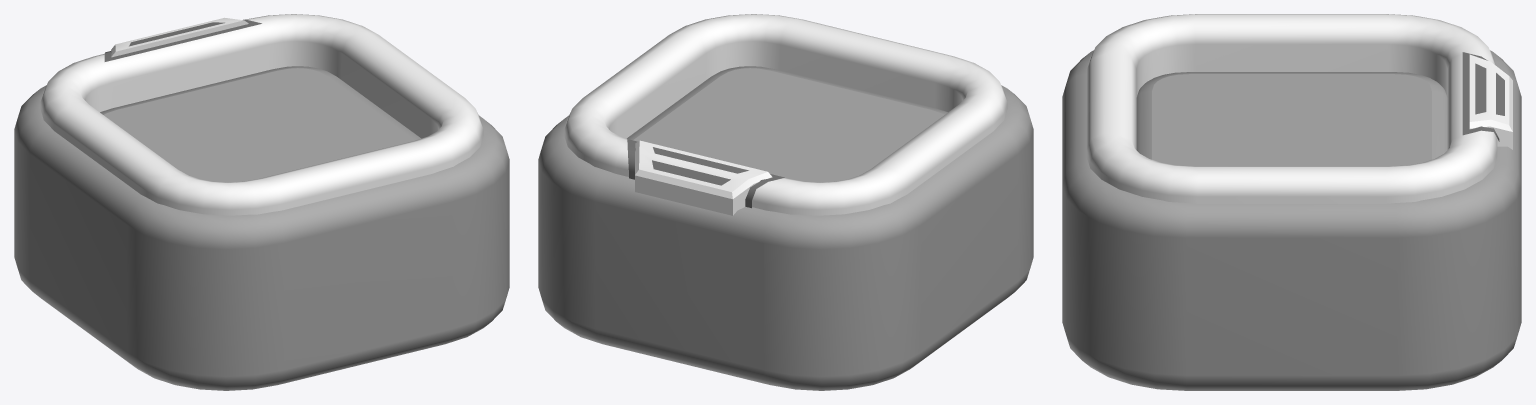
The model's file is Model_Block_1_New.fbx.
3 views of the same model, side by side, from view 1: azimuth 30°, elevation 25°; view 2: azimuth 150°, elevation 25°; view 3: azimuth 270°, elevation 25° (orthographic). The views are drawn at different scales.
Parts seen in each view (by area): view 1: B1_BG, B1_Stroke, B1_Water; view 2: B1_BG, B1_Stroke, B1_Water; view 3: B1_BG, B1_Stroke, B1_Water.
Part boxes in pixels (<box>): B1_BG: <box>14,85,509,390</box>; B1_Stroke: <box>40,14,483,215</box>; B1_Water: <box>100,66,420,182</box>; B1_BG: <box>538,85,1033,390</box>; B1_Stroke: <box>564,14,1007,215</box>; B1_Water: <box>627,66,947,182</box>; B1_BG: <box>1062,50,1521,390</box>; B1_Stroke: <box>1086,14,1512,203</box>; B1_Water: <box>1136,72,1447,166</box>.
Bounding box in the file's own units: 98.54 × 50.91 × 98.56.
Materials: 2 (1 with a texture image).
